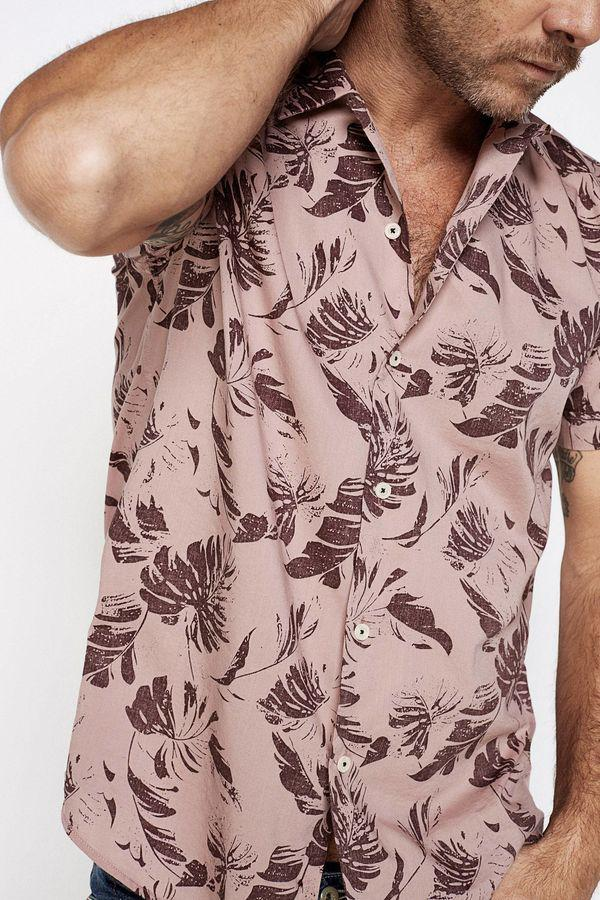teeshirt: (114, 263, 556, 900)
